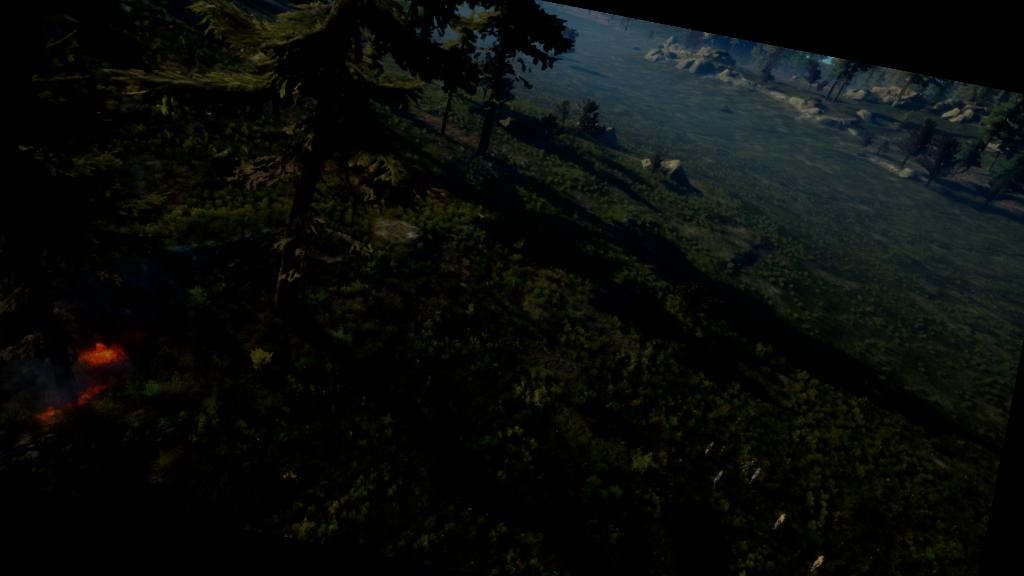Fire: (36, 374, 108, 434), (65, 331, 144, 385)
human: (764, 504, 792, 538), (806, 548, 830, 575), (744, 464, 768, 490), (738, 452, 758, 483), (698, 434, 718, 462), (710, 467, 728, 492)
smoke: (0, 203, 187, 419)
